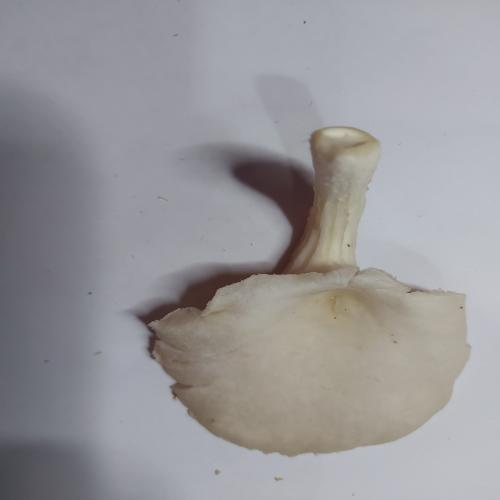Oyster Mushroom: (146, 124, 472, 457)
